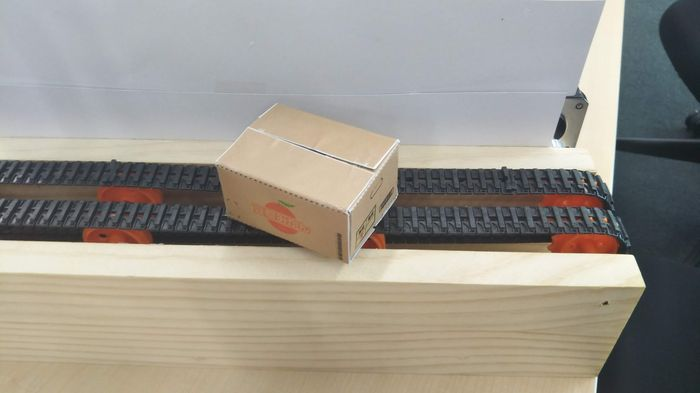box1: (213, 100, 400, 262)
